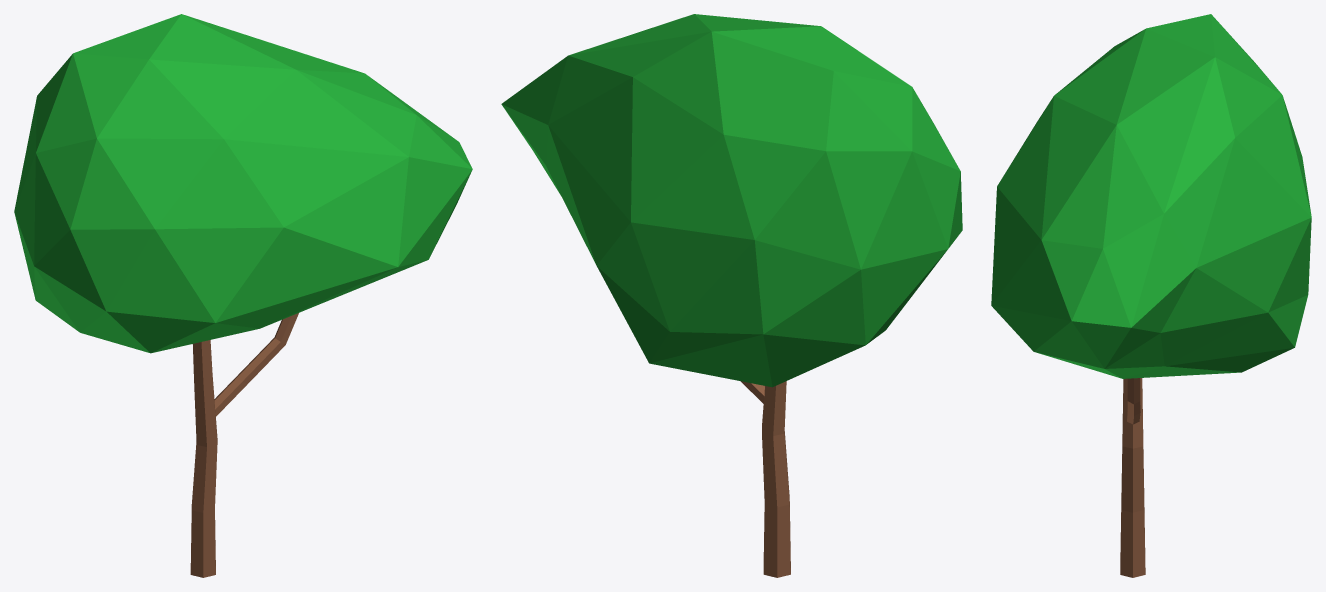
Rendered from arbol3.gltf.
3 renders of one model, left to right at view 1: azimuth 30°, elevation 25°; view 2: azimuth 150°, elevation 25°; view 3: azimuth 270°, elevation 25°, orthographic. The views are drawn at different scales.
Visible parts, largest first — view 1: Green Tree 1; view 2: Green Tree 1; view 3: Green Tree 1.
Part boxes in pixels (x1,y1,x2,y2): Green Tree 1: [14, 14, 472, 577]; Green Tree 1: [501, 14, 962, 577]; Green Tree 1: [991, 14, 1311, 577].
Bounding box in the file's own units: 11.49 × 13.72 × 7.6.
